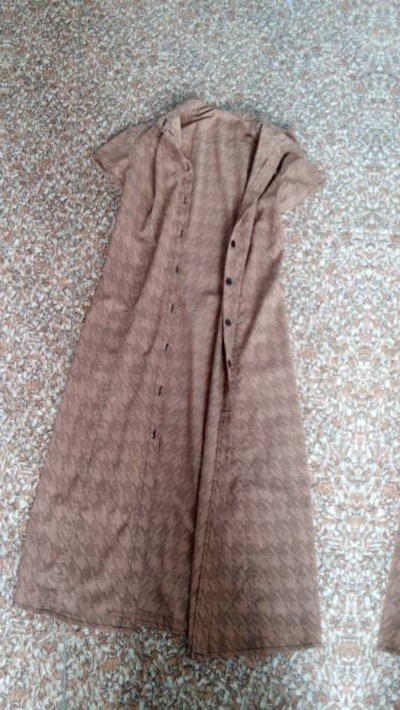Dress: (10, 76, 363, 681), (364, 95, 400, 700)
